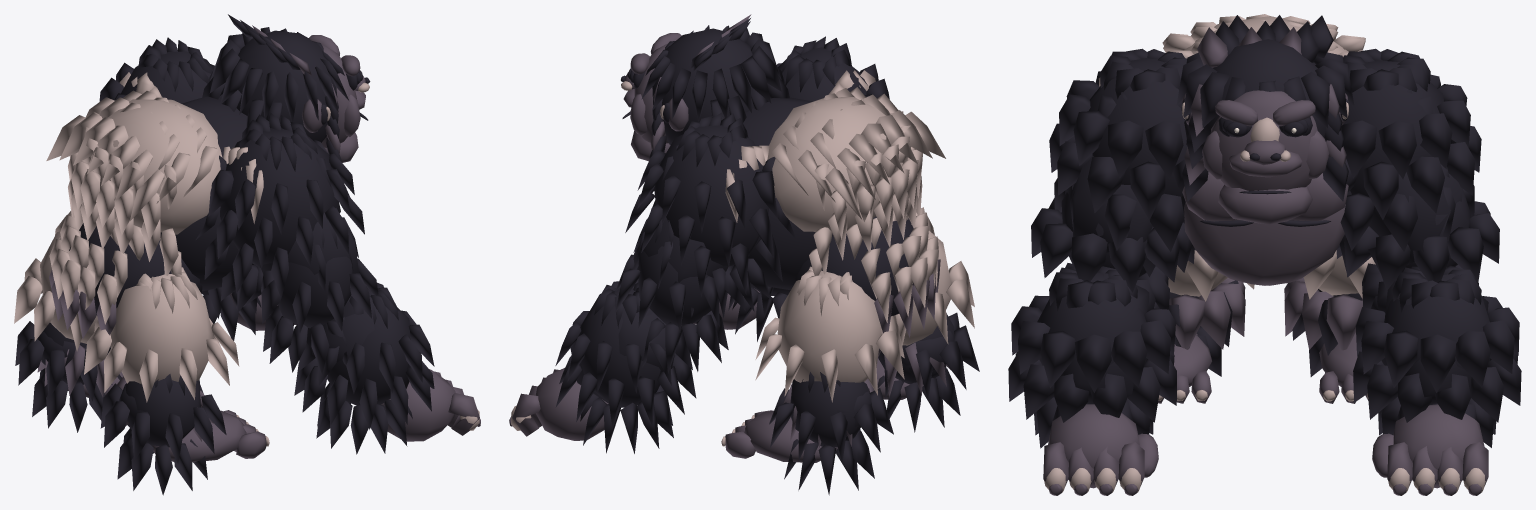
The picture shows the model from 3 angles, left to right: view 1: azimuth 30°, elevation 25°; view 2: azimuth 150°, elevation 25°; view 3: azimuth 270°, elevation 25°; orthographic projection. The views are drawn at different scales.
Visible parts, largest first — view 1: armR__pal_uiDark, torso__pal_sidewalk, foreArmR__pal_uiDark, legR__pal_sidewalk, head__pal_uiDark, shinR__pal_uiDark, shinL__pal_uiDark, armL__pal_uiDark, torso__pal_uiDark, head__pal_asphalt, handR__pal_asphalt, legL__pal_sidewalk (+7 smaller); view 2: armL__pal_uiDark, torso__pal_sidewalk, foreArmL__pal_uiDark, legL__pal_sidewalk, head__pal_uiDark, shinL__pal_uiDark, shinR__pal_uiDark, torso__pal_uiDark, armR__pal_uiDark, handL__pal_asphalt, head__pal_asphalt, legR__pal_sidewalk (+9 smaller); view 3: armR__pal_uiDark, armL__pal_uiDark, foreArmL__pal_uiDark, foreArmR__pal_uiDark, head__pal_uiDark, head__pal_asphalt, torso__pal_asphalt, handL__pal_asphalt, handR__pal_asphalt, legR__pal_asphalt, legL__pal_asphalt, torso__pal_sidewalk (+10 smaller).
Boxes of the visible parts, box(x1,y1,x2,y2) form: armR__pal_uiDark: box(196, 113, 378, 374); torso__pal_sidewalk: box(46, 90, 222, 297); foreArmR__pal_uiDark: box(294, 282, 434, 454); legR__pal_sidewalk: box(84, 267, 239, 402); head__pal_uiDark: box(202, 14, 370, 161); shinR__pal_uiDark: box(100, 374, 226, 495); shinL__pal_uiDark: box(15, 321, 121, 432); armL__pal_uiDark: box(99, 37, 222, 103); torso__pal_uiDark: box(160, 96, 253, 291); head__pal_asphalt: box(252, 25, 365, 162); handR__pal_asphalt: box(381, 369, 480, 441); legL__pal_sidewalk: box(14, 211, 97, 351); armL__pal_uiDark: box(614, 112, 796, 373); torso__pal_sidewalk: box(767, 87, 945, 298); foreArmL__pal_uiDark: box(555, 279, 696, 453); legL__pal_sidewalk: box(755, 266, 904, 402); head__pal_uiDark: box(621, 18, 789, 164); shinL__pal_uiDark: box(769, 372, 893, 495); shinR__pal_uiDark: box(877, 312, 979, 432); torso__pal_uiDark: box(743, 97, 833, 290); armR__pal_uiDark: box(776, 36, 889, 101); handL__pal_asphalt: box(509, 368, 608, 440); head__pal_asphalt: box(623, 14, 751, 161); legR__pal_sidewalk: box(893, 207, 974, 345); armR__pal_uiDark: box(1031, 48, 1195, 311); armL__pal_uiDark: box(1336, 48, 1499, 311); foreArmL__pal_uiDark: box(1353, 265, 1521, 447); foreArmR__pal_uiDark: box(1008, 266, 1176, 448); head__pal_uiDark: box(1176, 15, 1354, 201); head__pal_asphalt: box(1182, 27, 1348, 224); torso__pal_asphalt: box(1182, 172, 1348, 285); handL__pal_asphalt: box(1372, 404, 1488, 495); handR__pal_asphalt: box(1043, 404, 1158, 495); legR__pal_asphalt: box(1169, 278, 1245, 349); legL__pal_asphalt: box(1284, 277, 1362, 350); torso__pal_sidewalk: box(1162, 14, 1365, 58).
Bounding box in the file's own units: 1.94 × 2.17 × 2.33.
